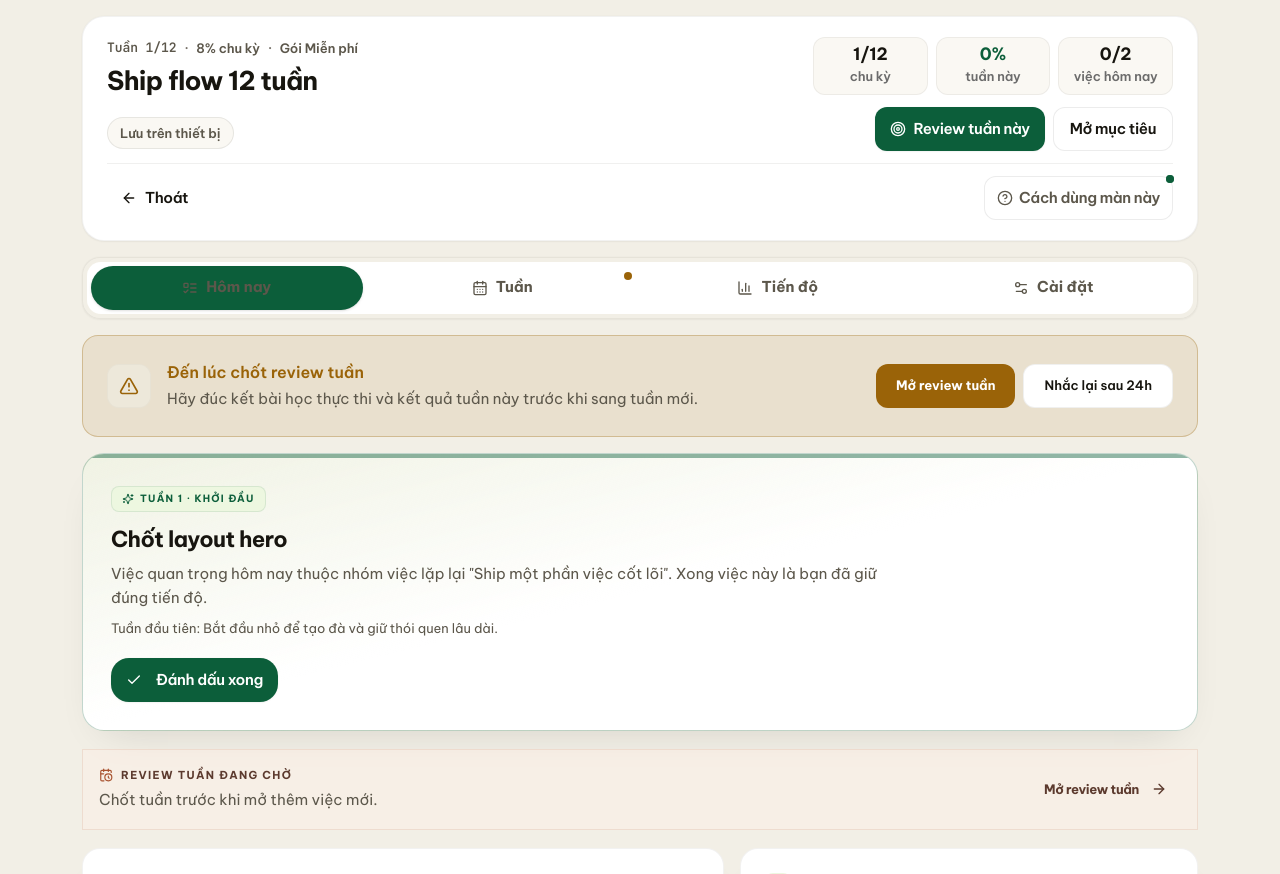
Test: 12WeekSystem weekly review banner › opens the weekly review form without saving an empty review
Click the button "Mở review tuần" in the row of "Đến lúc chốt review tuần". click: (946, 386)
box: [876,364,1016,408]
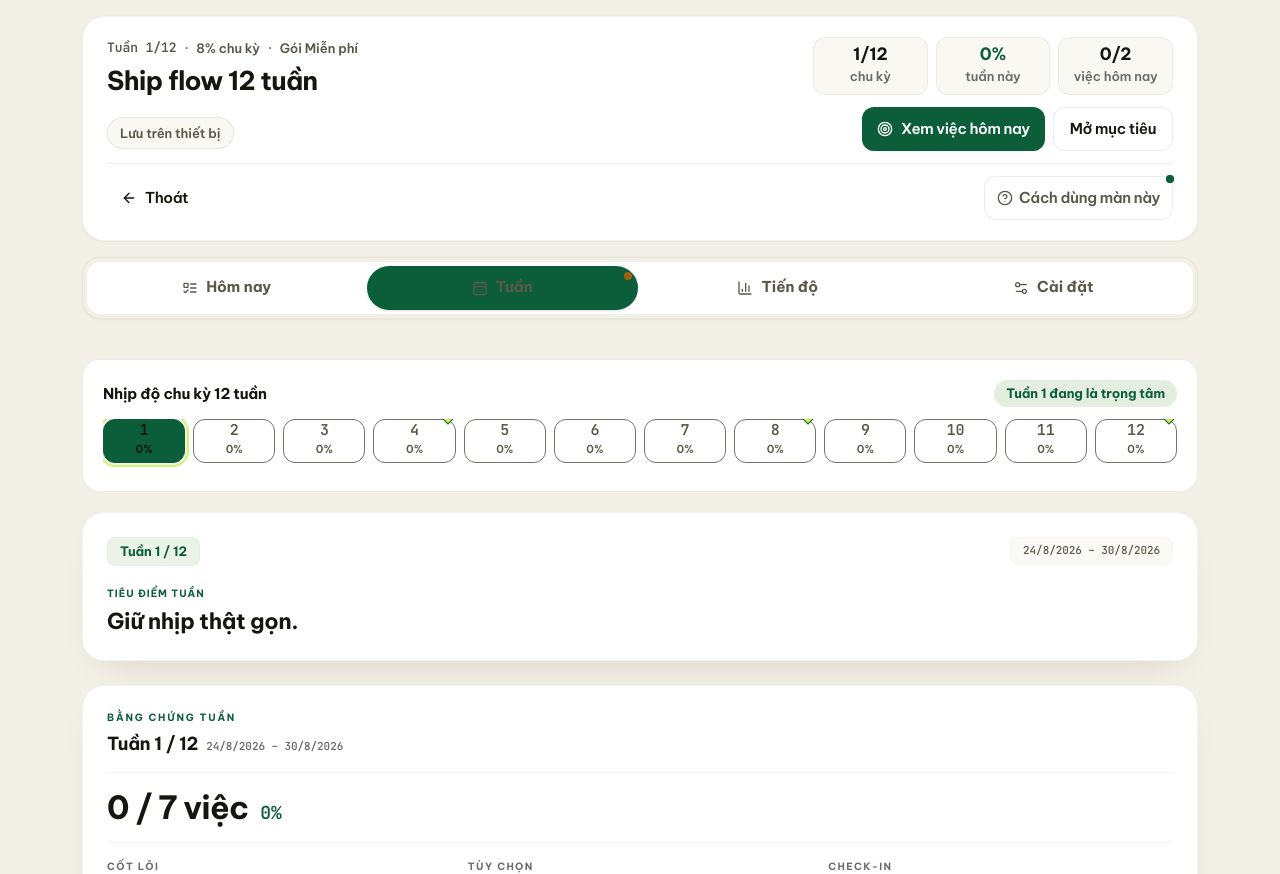
expect the text "Đến lúc chốt review tuần" is gone: met
expect the button "Xem việc hôm nay" is shown: met, box [862,107,1045,151]
